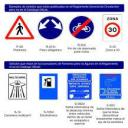speed_limit_30: (103, 22, 121, 38)
